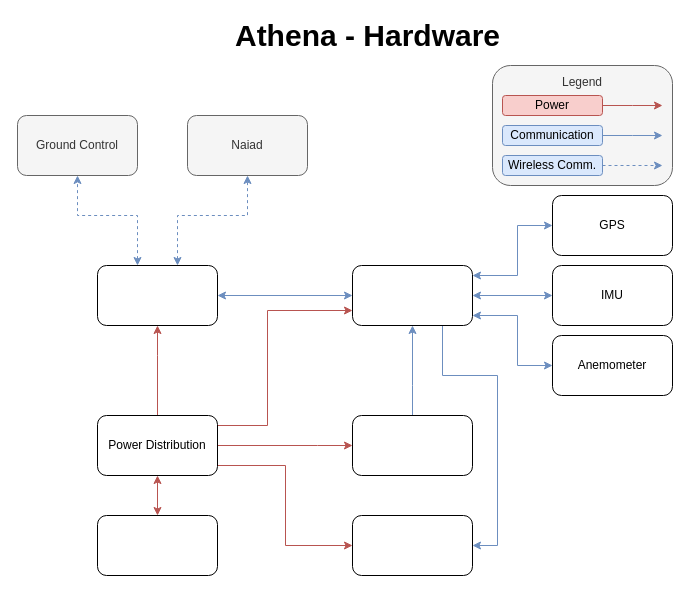
This 690x593 diagram has some shape labels left out. The shapes that lost their labels are listed below. From the top down, each one's centre as x and y in pixels, then its label:
At pixel 157 295: "Router".
At pixel 412 295: "SBC".
At pixel 412 445: "Battery warning system".
At pixel 157 545: "Battery".
At pixel 412 545: "Sonar Sender".
